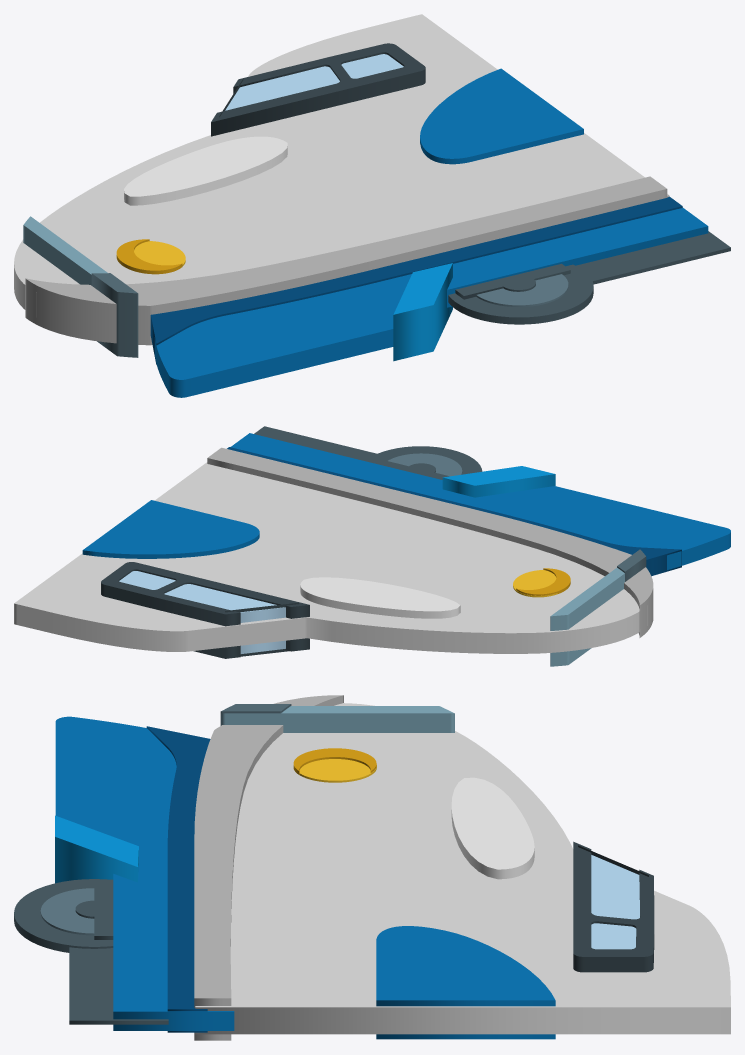
Rendered from emoji_u1f685.glb.
3 renders of one model, top to bottom at view 1: azimuth 30°, elevation 25°; view 2: azimuth 150°, elevation 25°; view 3: azimuth 270°, elevation 25°, orthographic. The views are drawn at different scales.
Parts seen in each view (by area): view 1: emoji_u1f685; view 2: emoji_u1f685; view 3: emoji_u1f685.
Part boxes in pixels (x1,y1,x2,y2): emoji_u1f685: [14, 14, 730, 397]; emoji_u1f685: [14, 426, 730, 666]; emoji_u1f685: [14, 695, 730, 1040].
Bounding box in the file's own units: 0.0339 × 0.0036 × 0.0335.
